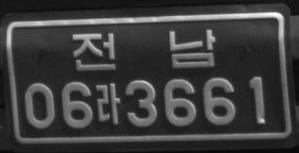0: (23, 81, 55, 130)
1: (245, 75, 272, 124)
3: (124, 78, 158, 128)
6: (200, 75, 236, 127), (162, 77, 197, 128), (60, 79, 93, 129)
라: (94, 81, 121, 126)
전남_D: (70, 28, 217, 72)
